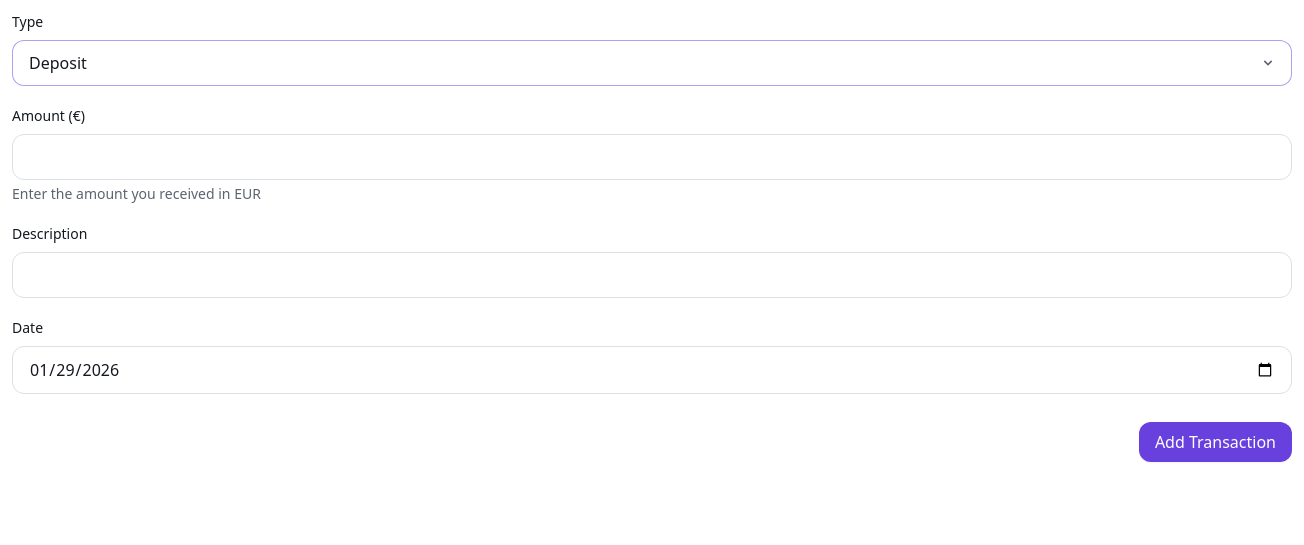
Test: TransactionForm › should prevent withdrawal that exceeds balance
The image size is (1304, 545).
Select "Withdrawal" in the dropdown labelled "Type" at {"x": 652, "y": 63}, box x1=12 y1=40 x2=1292 y2=86
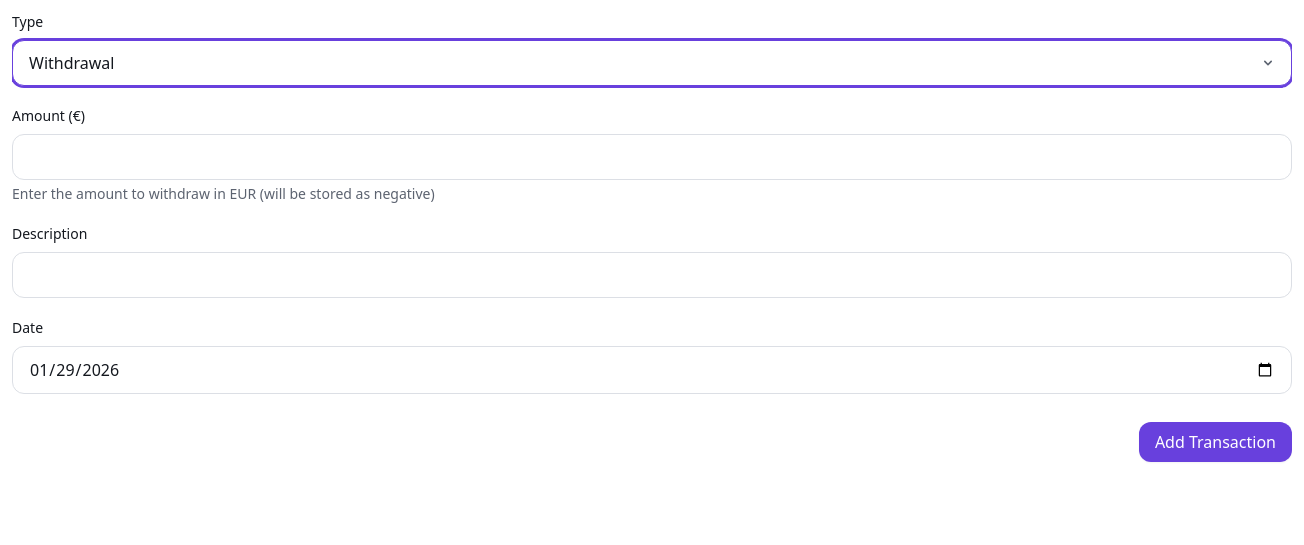
Type "150" into the number field labelled "Amount (€)" at {"x": 652, "y": 157}, box x1=12 y1=134 x2=1292 y2=180
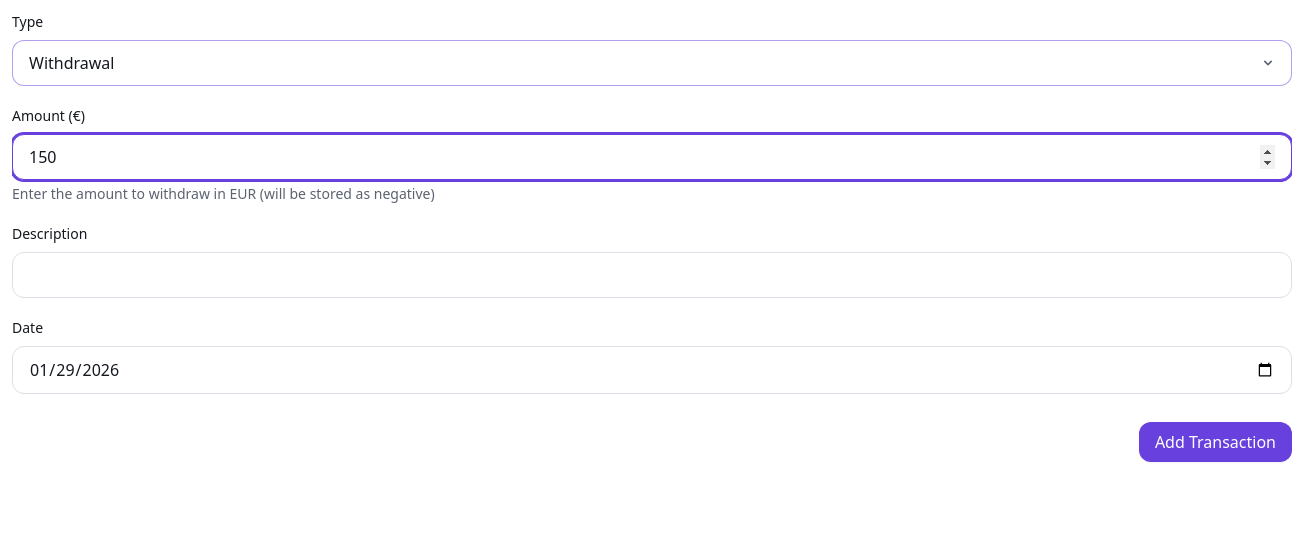
Type "Large Purchase" into the field labelled "Description" at {"x": 652, "y": 275}, box x1=12 y1=252 x2=1292 y2=298
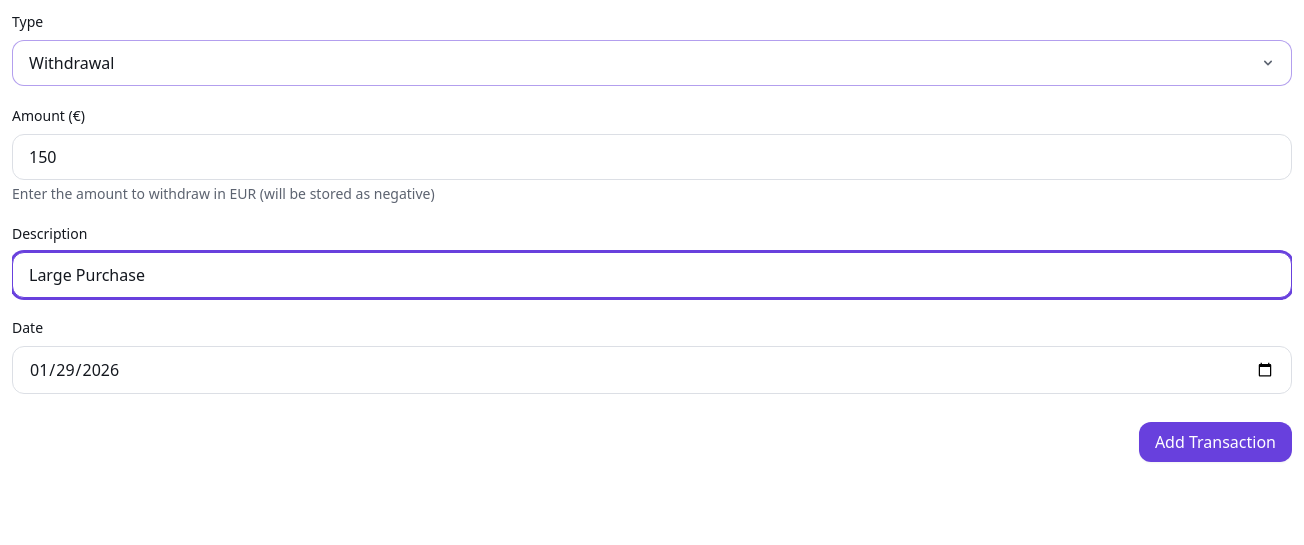
Click the button "Add Transaction" at {"x": 1215, "y": 442}, box x1=1139 y1=422 x2=1292 y2=462
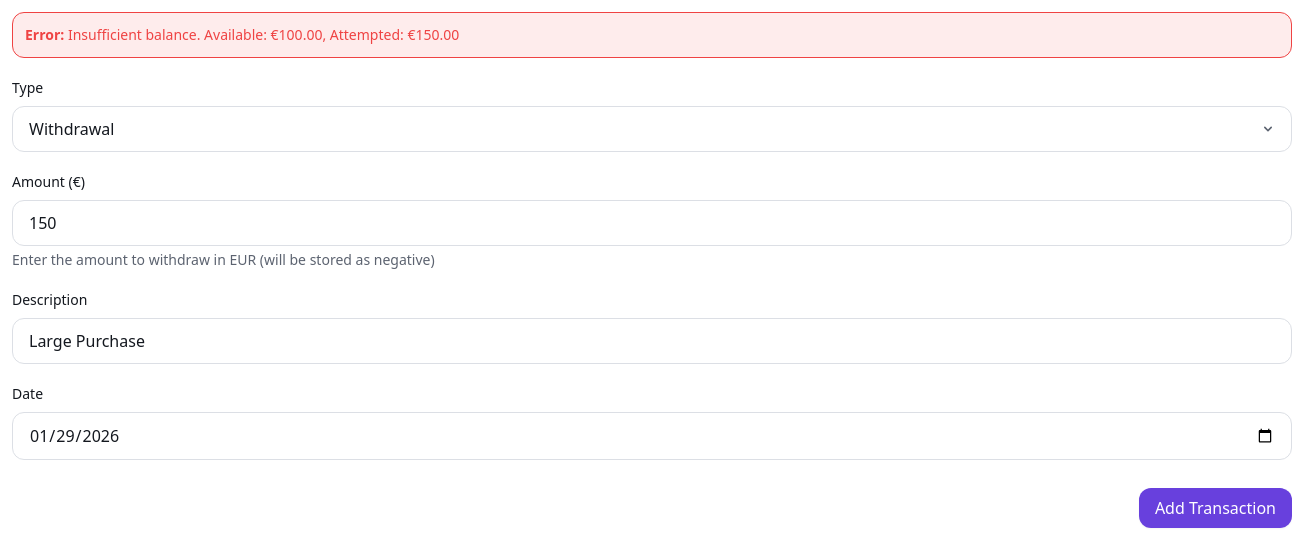
Expected: the text "Error: Insufficient balance. Available: €100.00, Attempted: €150.00" is shown, x1=12 y1=12 x2=1292 y2=58
